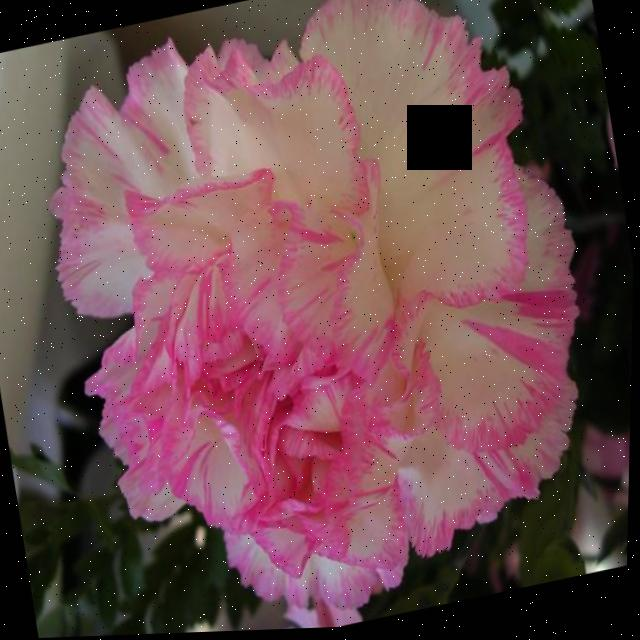carnation: (0, 0, 634, 640)
